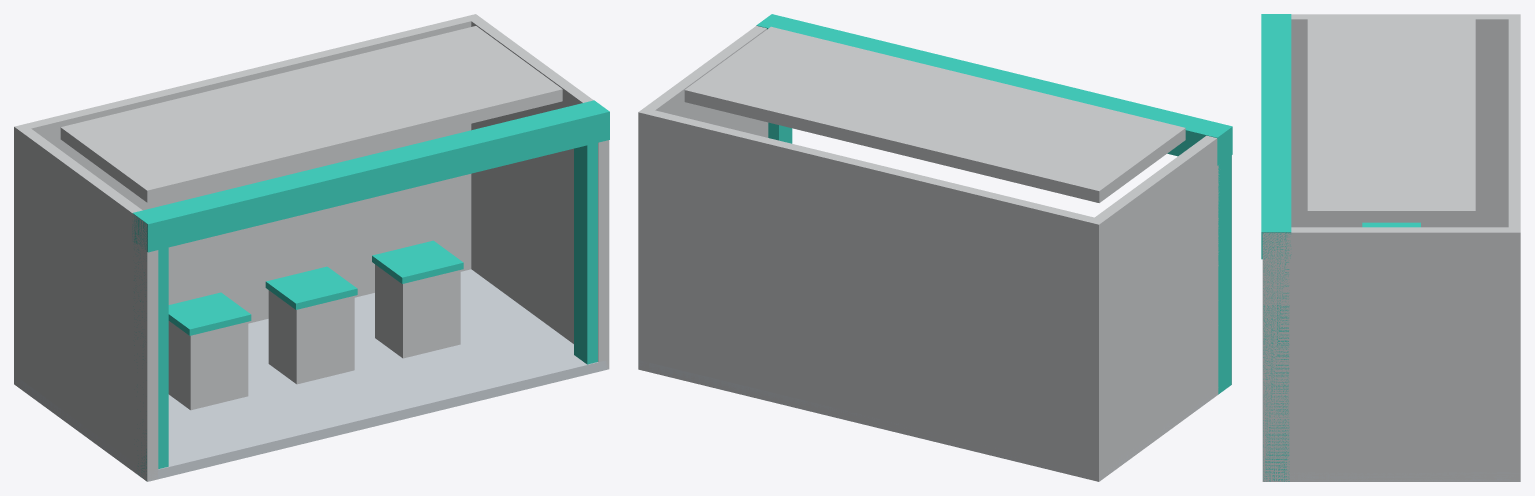
3 renders of one model, left to right at view 1: azimuth 30°, elevation 25°; view 2: azimuth 150°, elevation 25°; view 3: azimuth 270°, elevation 25°, orthographic. The views are drawn at different scales.
Visible parts, largest first — view 1: Exhibition Booth Concept; view 2: Exhibition Booth Concept; view 3: Exhibition Booth Concept.
Boxes of the visible parts, box(x1,y1,x2,y2) form: Exhibition Booth Concept: box(14, 14, 609, 481); Exhibition Booth Concept: box(638, 14, 1232, 481); Exhibition Booth Concept: box(1261, 14, 1520, 481).
Bounding box in the file's own units: 6 × 3.34 × 3.01.
